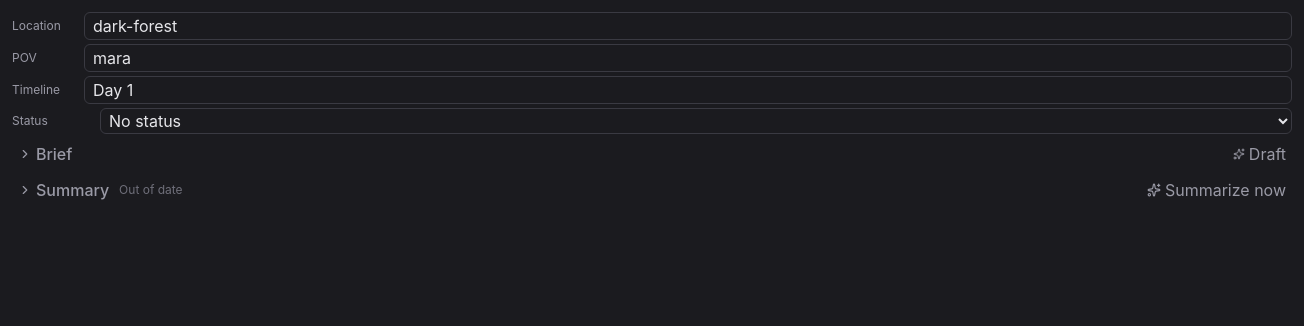
Scenario: MetadataPane summary (F-5.6) › summarises now and shows what came back
The image size is (1304, 326).
Click the button "Summary": (64, 190) [12,174,115,206]
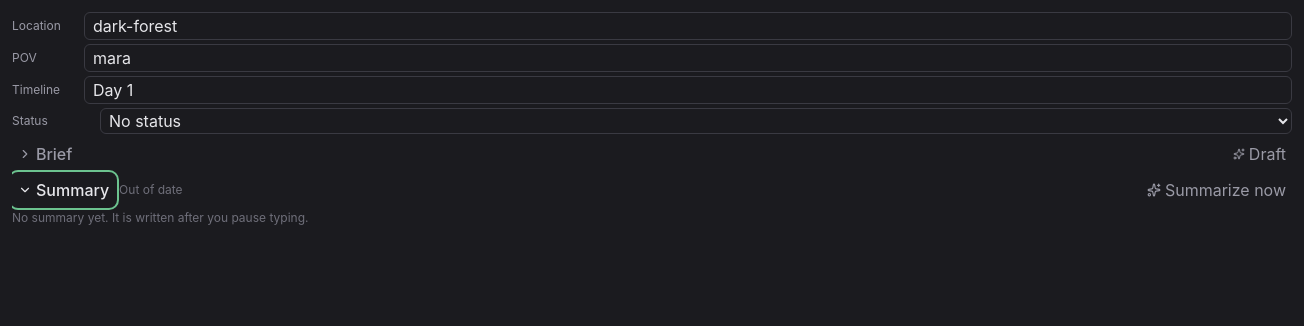
Now the text "No summary yet. It is written after you pause typing." is shown, box [12,210,308,225]
Click the button with test id "summary-refresh": (1216, 190) [1141,174,1292,206]
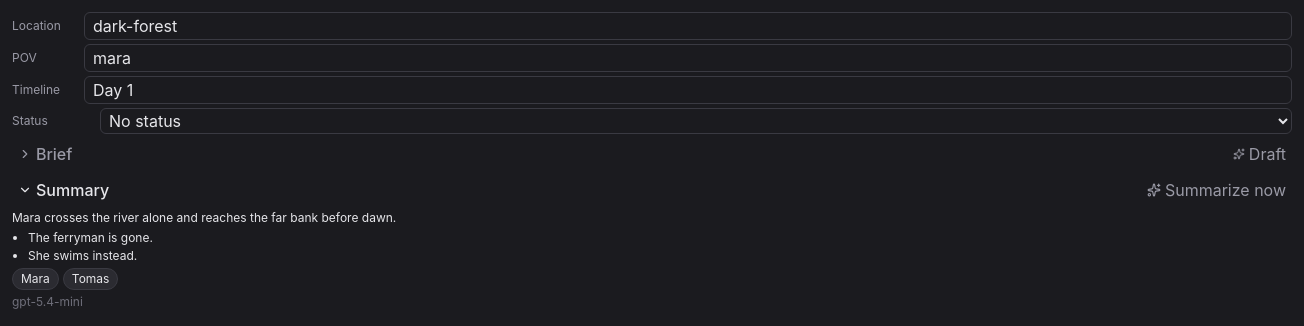
Now the text with test id "summary-text" reads "Mara crosses the river alone and reaches the far bank before dawn.", box [12,210,396,225]
